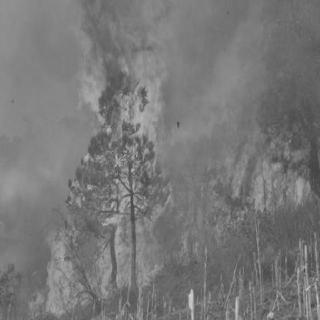Fire: (71, 2, 179, 300), (182, 102, 314, 245), (29, 222, 82, 314)
